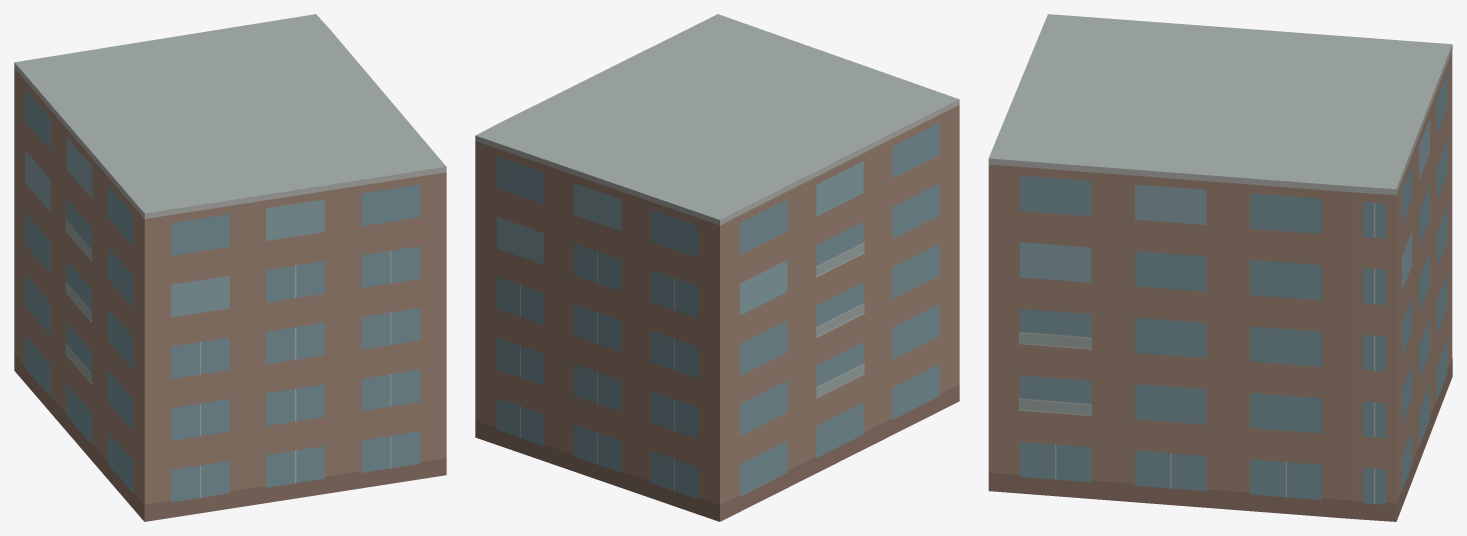
File: survey-upis-32783030.glb
3 renders of one model, left to right at view 1: azimuth 30°, elevation 25°; view 2: azimuth 150°, elevation 25°; view 3: azimuth 270°, elevation 25°, orthographic. The views are drawn at different scales.
Parts seen in each view (by area): view 1: survey-upis-32783030.tmp; view 2: survey-upis-32783030.tmp; view 3: survey-upis-32783030.tmp.
Part boxes in pixels (x1,y1,x2,y2): survey-upis-32783030.tmp: (14,14,446,521); survey-upis-32783030.tmp: (475,14,959,521); survey-upis-32783030.tmp: (988,14,1452,521).
Size of the model in its own units: 15.27 by 13.5 by 17.08.
